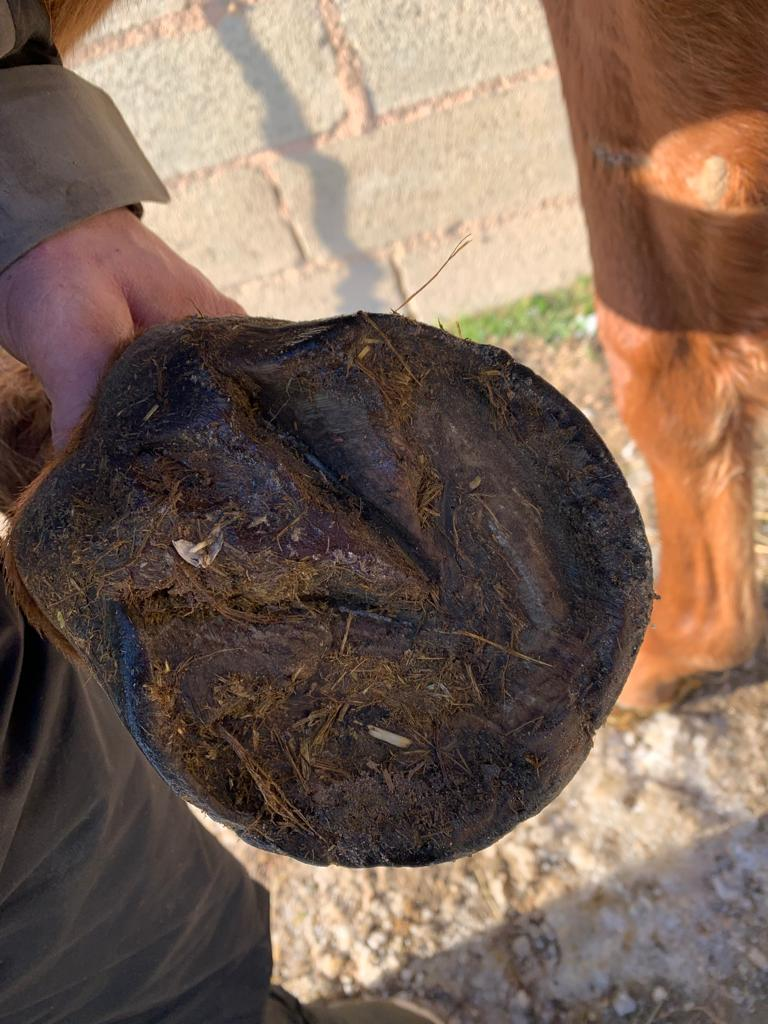horsesole: (120, 314, 653, 870)
